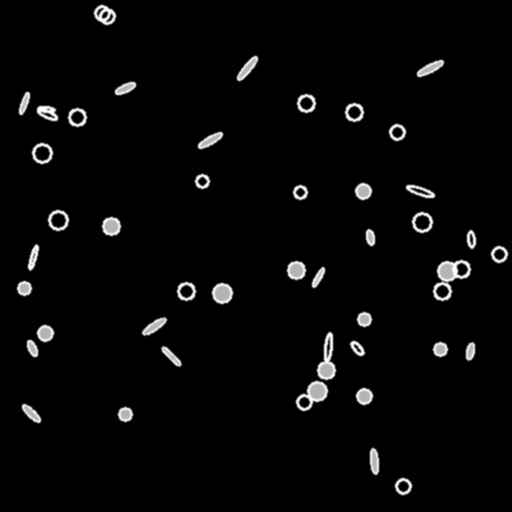pseudomonas: (235, 55, 259, 81), (416, 59, 444, 77), (160, 345, 182, 367), (405, 183, 435, 199), (142, 316, 166, 336), (197, 131, 223, 149), (21, 403, 41, 423), (27, 244, 39, 270), (36, 107, 58, 121), (323, 332, 333, 362), (349, 339, 365, 357), (311, 267, 325, 287), (115, 81, 135, 95), (18, 92, 30, 114), (369, 448, 379, 474), (25, 339, 39, 357), (465, 342, 475, 360), (366, 229, 374, 245), (467, 231, 475, 247), (38, 106, 54, 112)
synechocystis: (49, 211, 67, 229), (308, 382, 326, 400), (413, 213, 431, 231), (33, 144, 51, 162), (438, 262, 456, 280), (213, 284, 231, 302), (434, 283, 450, 299), (288, 262, 304, 278), (69, 109, 85, 125), (178, 283, 194, 299), (298, 95, 314, 111), (346, 104, 362, 120), (318, 362, 334, 378), (453, 261, 469, 277), (103, 218, 119, 234), (492, 247, 506, 261), (95, 6, 109, 20), (297, 395, 311, 409), (396, 479, 410, 493), (357, 389, 371, 403), (100, 9, 114, 23), (38, 326, 52, 340), (356, 184, 370, 198), (390, 125, 404, 139), (358, 313, 370, 325), (119, 408, 131, 420), (18, 282, 30, 294), (434, 343, 446, 355), (294, 186, 306, 198), (196, 175, 208, 187)
